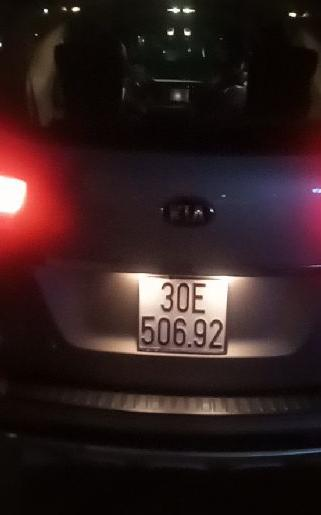Plate-iWeP: (138, 279, 231, 353)
